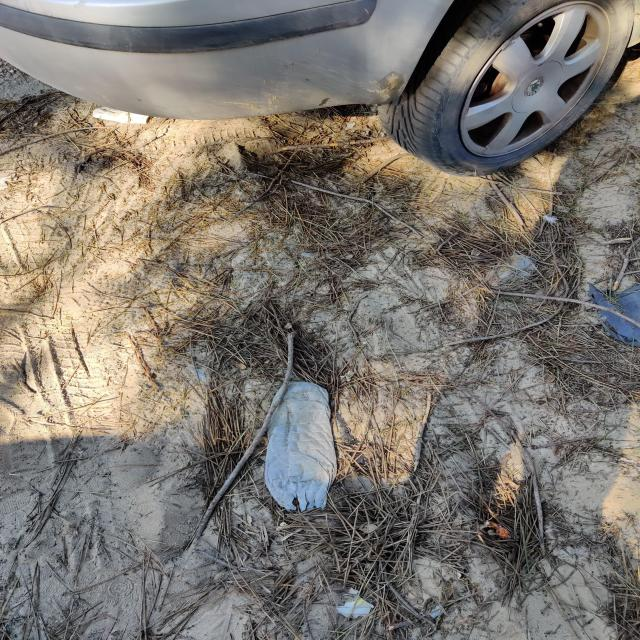litter: (259, 374, 355, 515), (578, 265, 638, 360), (82, 91, 168, 147)
